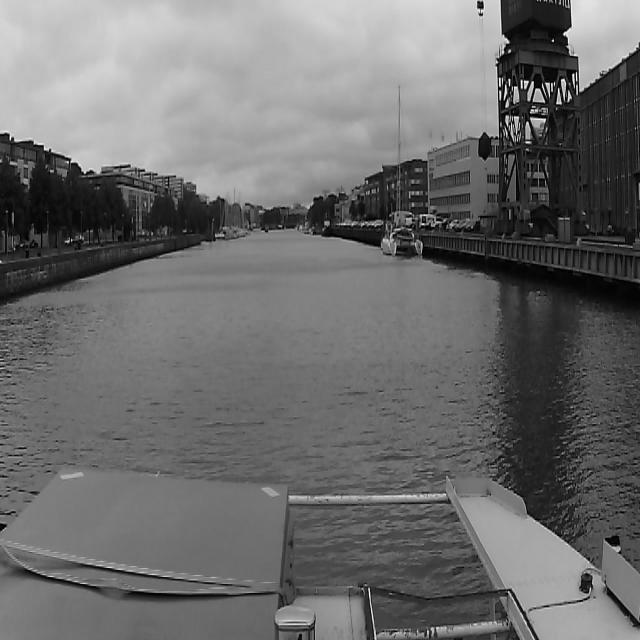ship: (382, 84, 423, 260)
